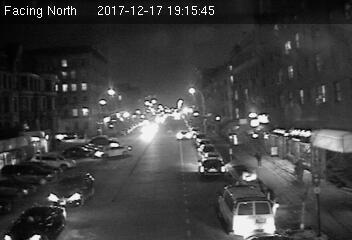car: (47, 169, 97, 208), (197, 157, 228, 179), (175, 128, 192, 142)
police: (217, 183, 278, 236)
